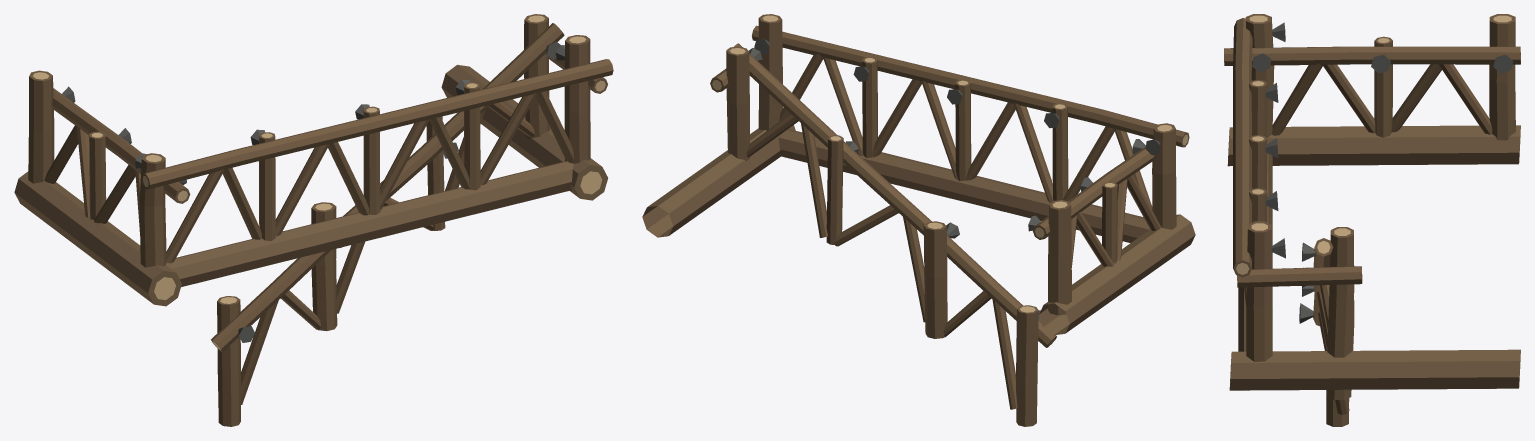
File: rpgpp_ag_stairs_interior_02a_3m_handrail_02.fbx
3 views of the same model, side by side, from view 1: azimuth 30°, elevation 25°; view 2: azimuth 150°, elevation 25°; view 3: azimuth 270°, elevation 25° (orthographic). The views are drawn at different scales.
Parts seen in each view (by area): view 1: rpgpp_ag_stairs_interior_02a_3m_handrail_02; view 2: rpgpp_ag_stairs_interior_02a_3m_handrail_02; view 3: rpgpp_ag_stairs_interior_02a_3m_handrail_02.
Part boxes in pixels (box(x1,y1,x2,y2)): rpgpp_ag_stairs_interior_02a_3m_handrail_02: box(14, 14, 613, 426); rpgpp_ag_stairs_interior_02a_3m_handrail_02: box(642, 14, 1195, 426); rpgpp_ag_stairs_interior_02a_3m_handrail_02: box(1224, 14, 1520, 426).
Bounding box in the file's own units: 6.63 × 4.51 × 3.37.
